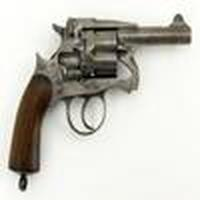gun: (7, 14, 193, 178)
